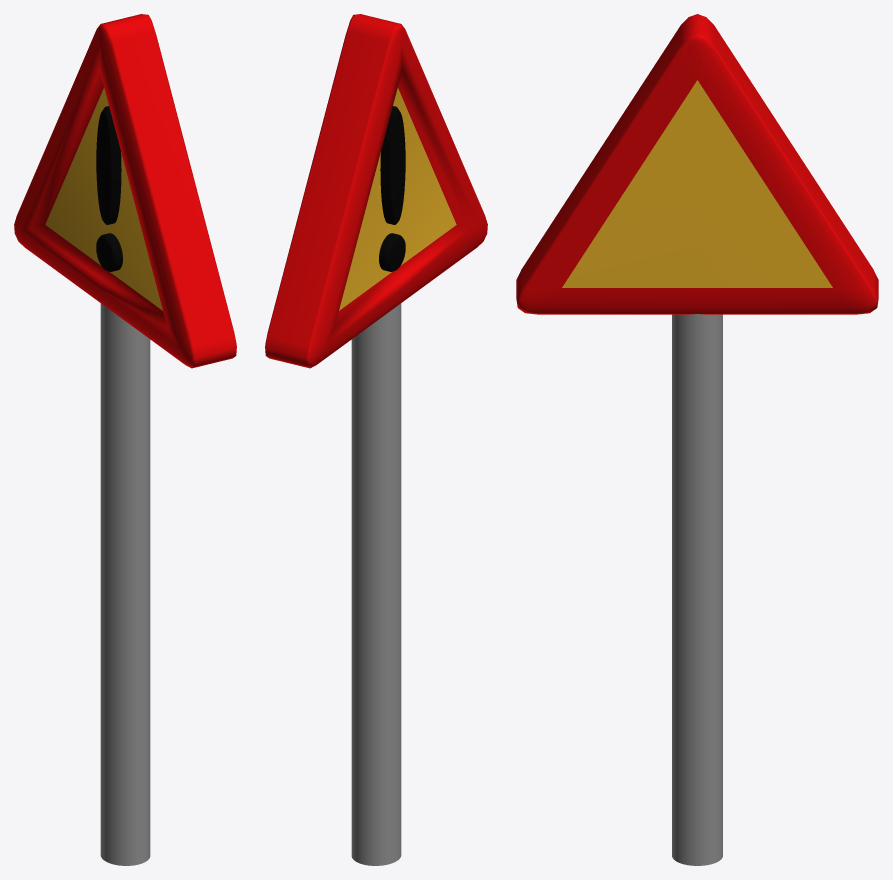
Rendered from TrafficSign1.fbx.
The picture shows the model from 3 angles, left to right: view 1: azimuth 30°, elevation 25°; view 2: azimuth 150°, elevation 25°; view 3: azimuth 270°, elevation 25°; orthographic projection.
Parts seen in each view (by area): view 1: TrafficSignTriangle, TrafficSignPole1, ExlamationMark; view 2: TrafficSignTriangle, TrafficSignPole1, ExlamationMark; view 3: TrafficSignTriangle, TrafficSignPole1.
Boxes of the visible parts, left/top/right/bottom form: TrafficSignTriangle: left=14, top=14, right=236, bottom=368; TrafficSignPole1: left=100, top=303, right=150, bottom=865; ExlamationMark: left=96, top=106, right=122, bottom=271; TrafficSignTriangle: left=265, top=14, right=487, bottom=368; TrafficSignPole1: left=351, top=303, right=401, bottom=865; ExlamationMark: left=379, top=106, right=405, bottom=271; TrafficSignTriangle: left=516, top=14, right=878, bottom=314; TrafficSignPole1: left=672, top=314, right=722, bottom=865.
Size of the model in its own units: 0.1211 by 1.85 by 0.7313.
